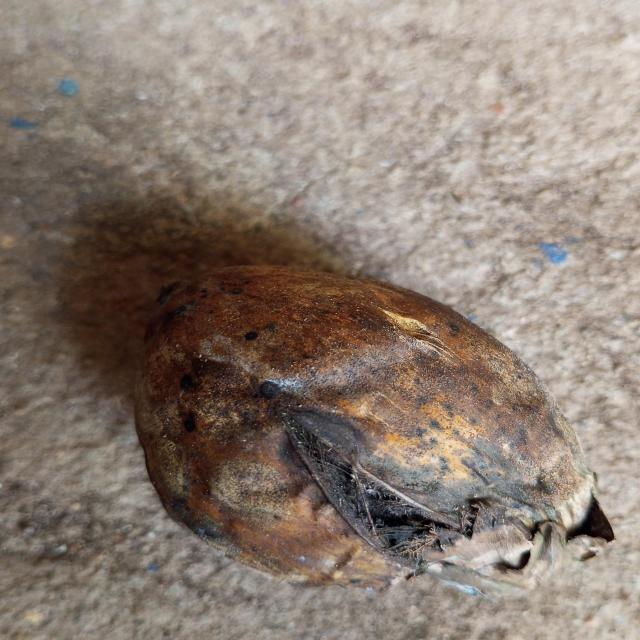damaged: (135, 266, 613, 597)
